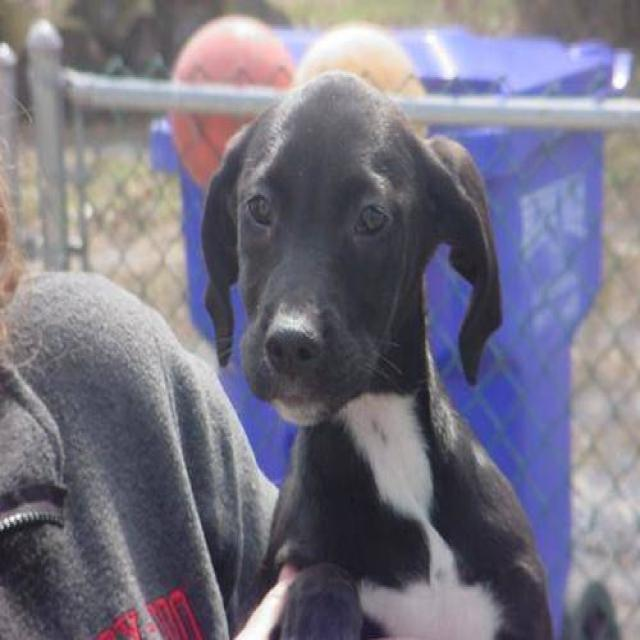dogs: (197, 61, 628, 640)
